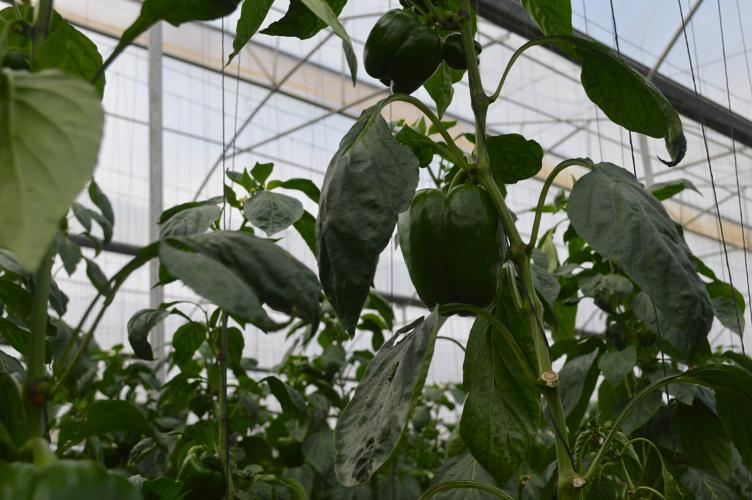BellPepper: (401, 185, 506, 307), (360, 7, 443, 94)
